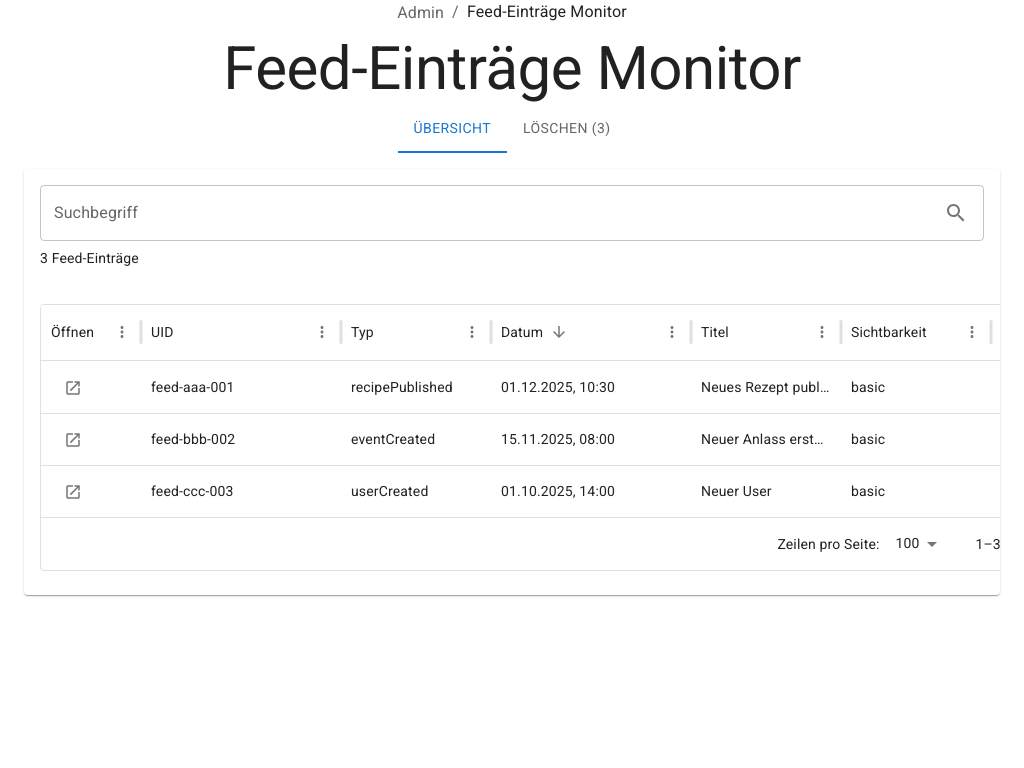
8 – Klick auf Öffnen-Icon zeigt Detail-Dialog mit Feed-Daten
This screenshot has width=1024, height=768.
Öffnen-Icon des ersten Feeds klicken
Click the button named "open feed" next to "feed-aaa-001" at point(73, 388), box top-left (59, 374), bottom-right (87, 402)
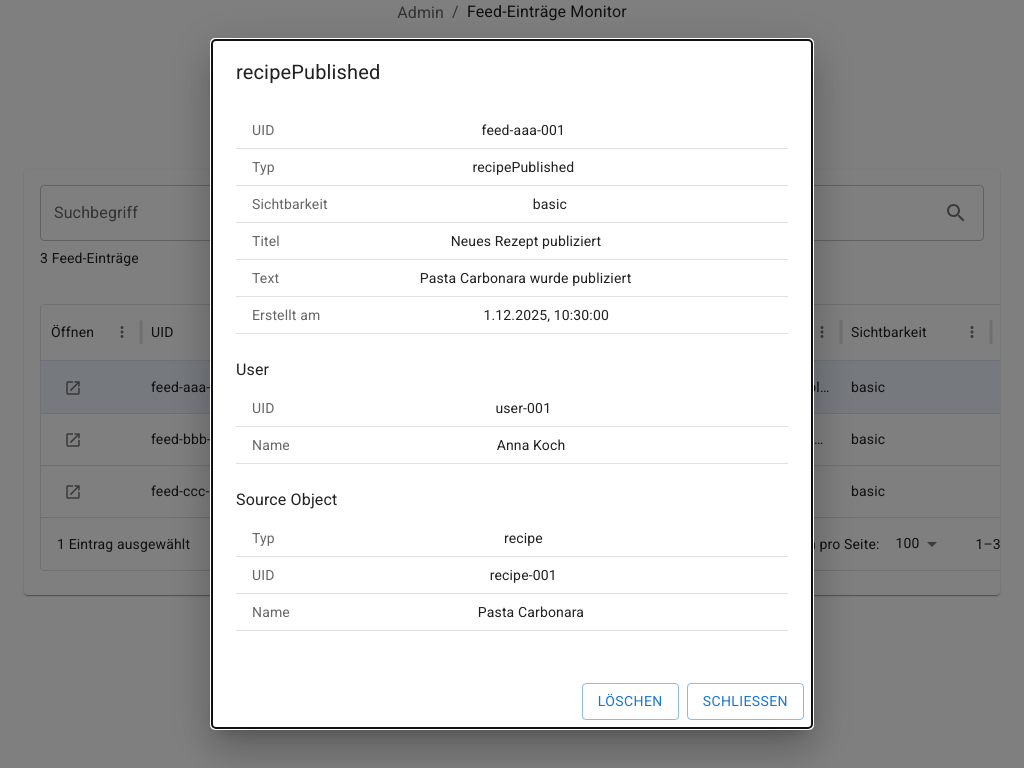
Check: the dialog is shown, box top-left (212, 40), bottom-right (812, 728)
Check: the heading reads "recipePublished", box top-left (236, 60), bottom-right (380, 84)
